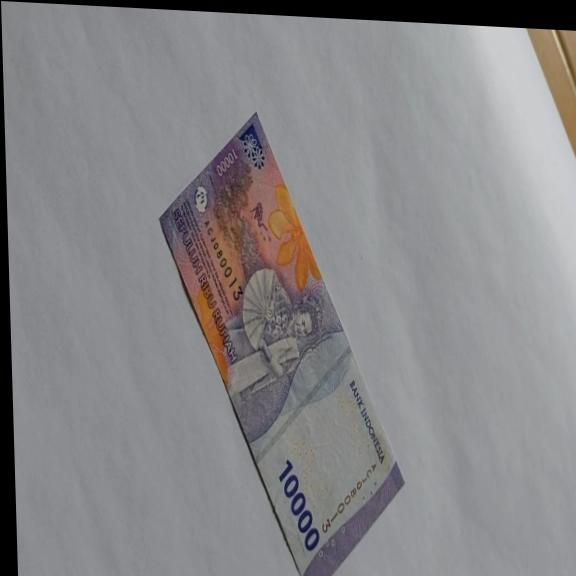Kertas: (154, 105, 409, 576), (276, 457, 320, 553)
